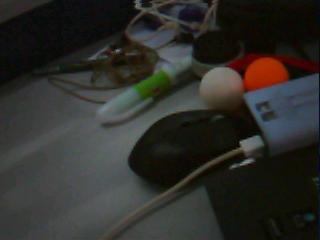oball: (245, 59, 288, 88)
